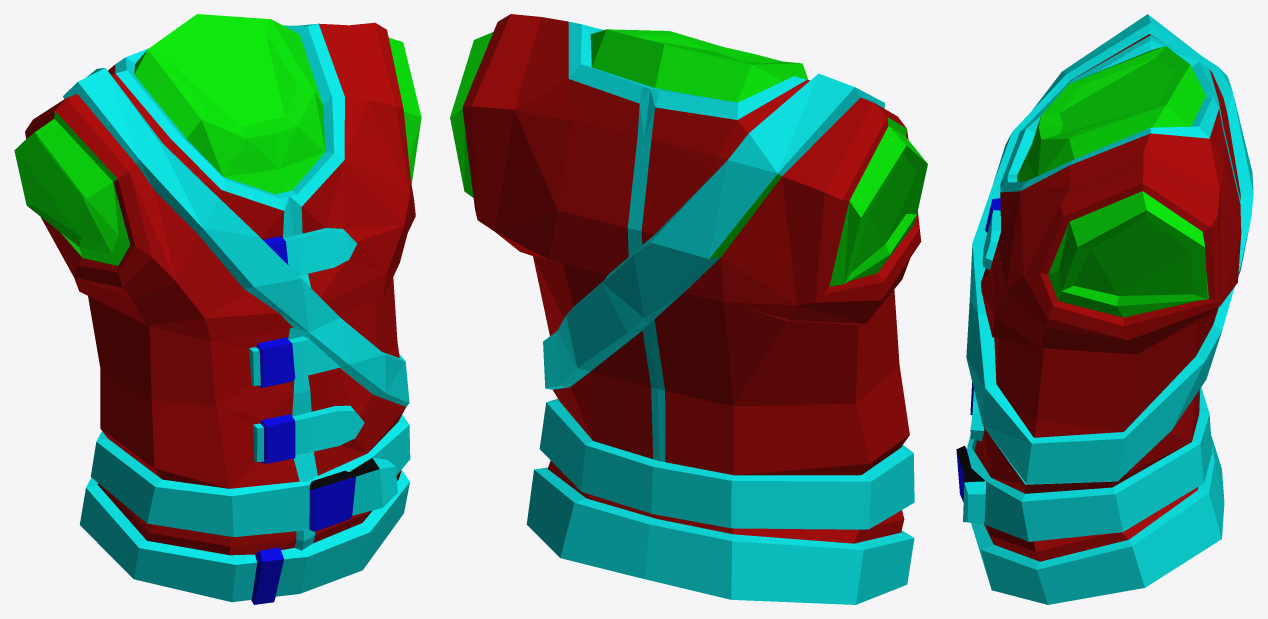
Rendered from Chr_Torso_Male_Static_14.fbx.
3 views of the same model, side by side, from view 1: azimuth 30°, elevation 25°; view 2: azimuth 150°, elevation 25°; view 3: azimuth 270°, elevation 25° (orthographic). The views are drawn at different scales.
Visible parts, largest first — view 1: Chr_Torso_Male_14; view 2: Chr_Torso_Male_14; view 3: Chr_Torso_Male_14.
Boxes of the visible parts, x1=… form: Chr_Torso_Male_14: x1=14, y1=14, x2=421, y2=604; Chr_Torso_Male_14: x1=450, y1=14, x2=927, y2=604; Chr_Torso_Male_14: x1=956, y1=14, x2=1253, y2=604.
Bounding box in the file's own units: 50.2 × 65.92 × 35.4.
